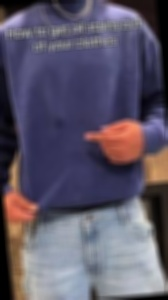oil: (98, 159, 122, 176), (50, 114, 65, 127), (89, 148, 102, 163)
